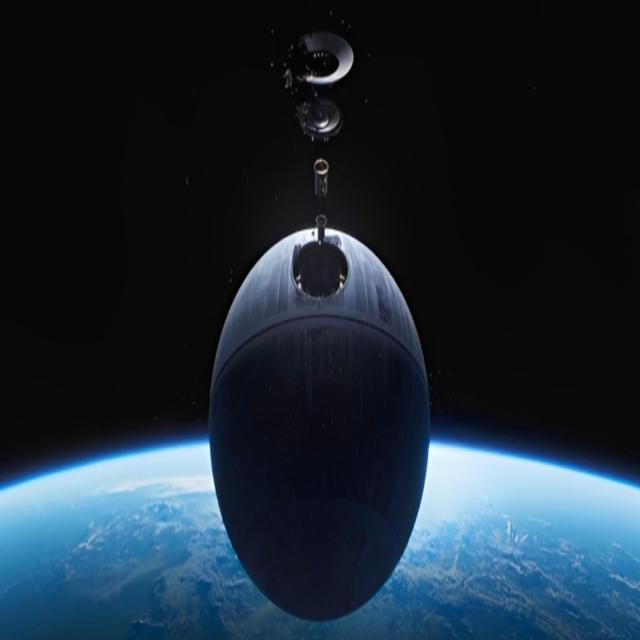deathstar: (209, 228, 430, 621)
